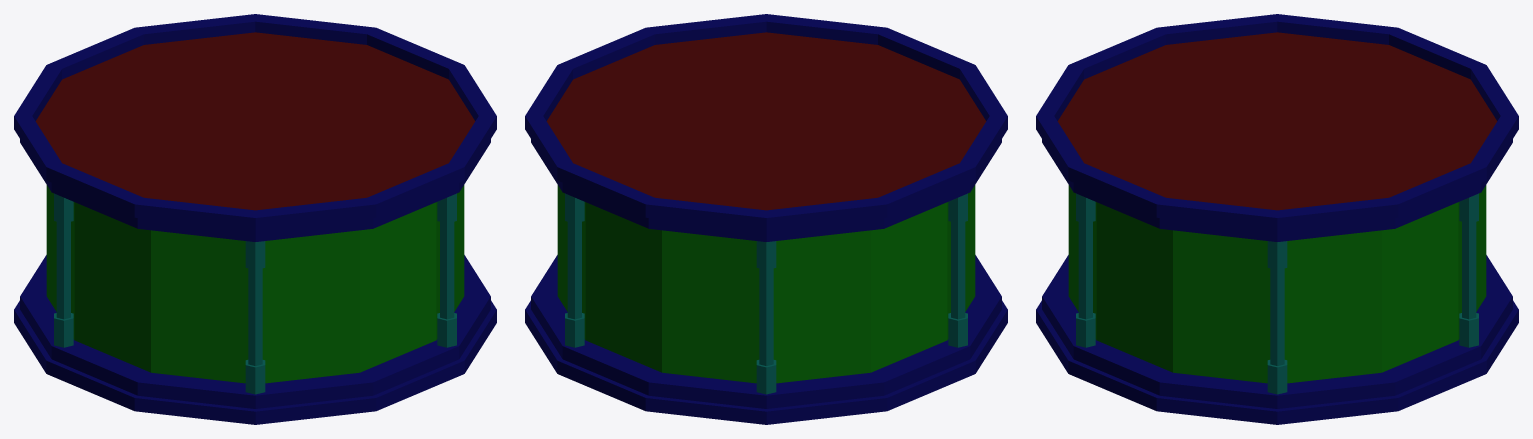
File: Drum.fbx
The picture shows the model from 3 angles, left to right: view 1: azimuth 30°, elevation 25°; view 2: azimuth 150°, elevation 25°; view 3: azimuth 270°, elevation 25°; orthographic projection.
Visible parts, largest first — view 1: Drum; view 2: Drum; view 3: Drum.
Boxes of the visible parts, box(x1,y1,x2,y2) form: Drum: box(14, 14, 496, 424); Drum: box(525, 14, 1007, 424); Drum: box(1036, 14, 1518, 424).
Size of the model in its own units: 135 by 64.02 by 135.
